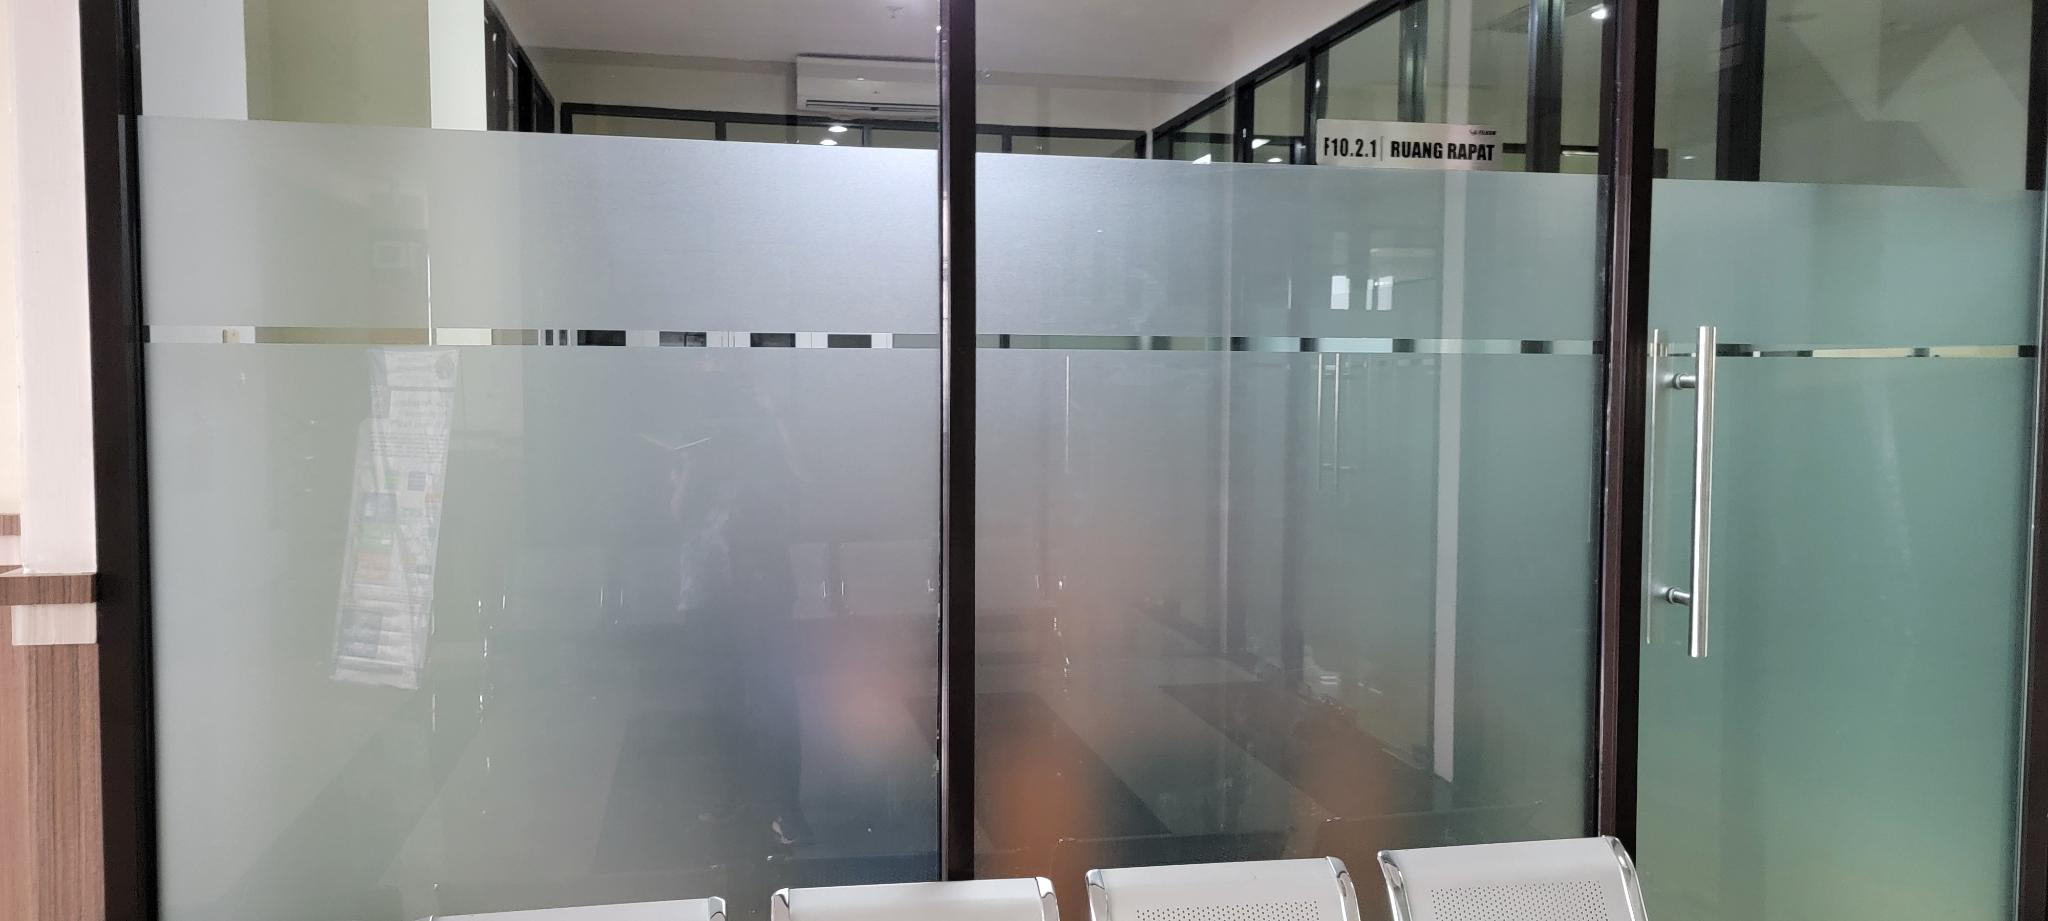plate: (1315, 116, 1503, 172)
